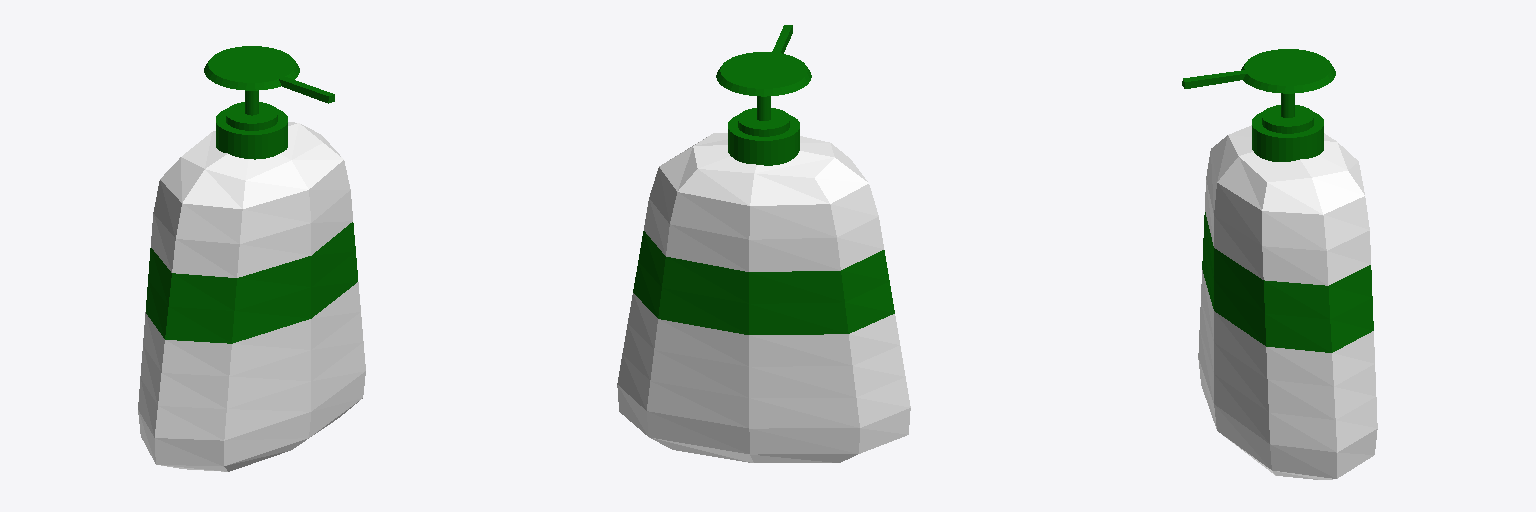
3 renders of one model, left to right at view 1: azimuth 30°, elevation 25°; view 2: azimuth 150°, elevation 25°; view 3: azimuth 270°, elevation 25°, orthographic.
Visible parts, largest first — view 1: Cylinder.001_Material.014; view 2: Cylinder.001_Material.014; view 3: Cylinder.001_Material.014.
Part boxes in pixels (bbox=[...]): Cylinder.001_Material.014: bbox=[138, 46, 365, 471]; Cylinder.001_Material.014: bbox=[617, 25, 910, 462]; Cylinder.001_Material.014: bbox=[1182, 49, 1377, 479].
Size of the model in its own units: 0.1283 by 0.1901 by 0.0889.
Materials: 1 (1 with a texture image).